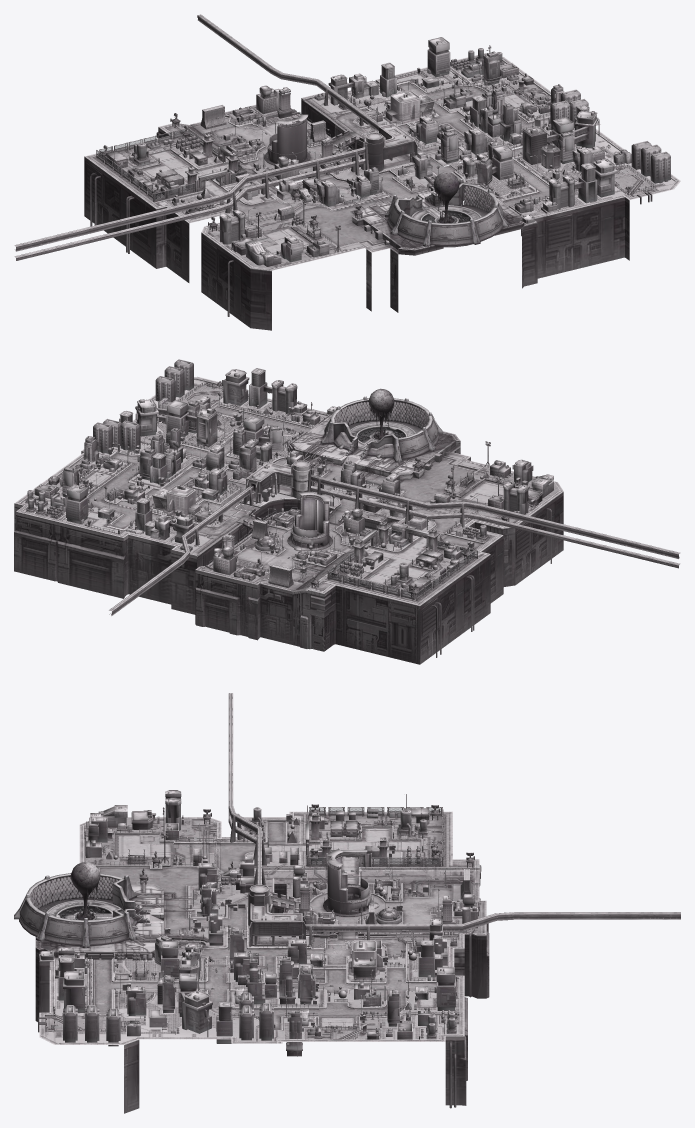
Rendered from fcbg_whitearkcity_002.glb.
The picture shows the model from 3 angles, top to bottom: view 1: azimuth 30°, elevation 25°; view 2: azimuth 150°, elevation 25°; view 3: azimuth 270°, elevation 25°; orthographic projection. The views are drawn at different scales.
Parts seen in each view (by area): view 1: fcbg_whitearkcity_002_bg_01, fcbg_whitearkcity_002_darkmatter_02, fcbg_whitearkcity_002_train_station_01, fcbg_whitearkcity_002_train_station_02, fcbg_whitearkcity_002_train_station_03, fcbg_whitearkcity_002_coinrush_01, fcbg_whitearkcity_002_policestation_01, fcbg_whitearkcity_002_building_01, fcbg_whitearkcity_building_17 (3), fcbg_whitearkcity_002_darkmatter_01, fcbg_whitearkcity_building_16, fcbg_whitearkcity_building_16 (2) (+15 smaller); view 2: fcbg_whitearkcity_002_bg_01, fcbg_whitearkcity_002_darkmatter_02, fcbg_whitearkcity_002_train_station_01, fcbg_whitearkcity_002_coinrush_01, fcbg_whitearkcity_002_train_station_02, fcbg_whitearkcity_002_train_station_03, fcbg_whitearkcity_002_policestation_01, fcbg_whitearkcity_002_darkmatter_01, fcbg_whitearkcity_building_14 (5), fcbg_whitearkcity_002_building_01, fcbg_whitearkcity_building_17 (3), fcbg_whitearkcity_building_16 (2) (+10 smaller); view 3: fcbg_whitearkcity_002_bg_01, fcbg_whitearkcity_002_darkmatter_02, fcbg_whitearkcity_002_train_station_03, fcbg_whitearkcity_002_train_station_02, fcbg_whitearkcity_002_coinrush_01, fcbg_whitearkcity_002_train_station_01, fcbg_whitearkcity_002_policestation_01, fcbg_whitearkcity_building_14 (1), fcbg_whitearkcity_002_darkmatter_01, fcbg_whitearkcity_building_17 (3), fcbg_whitearkcity_building_14 (5), fcbg_whitearkcity_building_02 (+2 smaller).
Boxes of the visible parts, x1,y1,x2,y2 form: fcbg_whitearkcity_002_bg_01: (84,53,680,330); fcbg_whitearkcity_002_darkmatter_02: (385,178,508,247); fcbg_whitearkcity_002_train_station_01: (14,142,369,260); fcbg_whitearkcity_002_train_station_02: (365,123,417,171); fcbg_whitearkcity_002_train_station_03: (197,14,382,131); fcbg_whitearkcity_002_coinrush_01: (264,114,310,165); fcbg_whitearkcity_002_policestation_01: (383,90,434,123); fcbg_whitearkcity_002_building_01: (520,118,546,164); fcbg_whitearkcity_building_17 (3): (427,37,450,77); fcbg_whitearkcity_002_darkmatter_01: (433,172,459,223); fcbg_whitearkcity_building_16: (549,175,574,209); fcbg_whitearkcity_building_16 (2): (219,210,245,244); fcbg_whitearkcity_002_bg_01: (14,376,563,664); fcbg_whitearkcity_002_darkmatter_02: (321,396,442,462); fcbg_whitearkcity_002_train_station_01: (307,469,680,568); fcbg_whitearkcity_002_coinrush_01: (287,491,332,551); fcbg_whitearkcity_002_train_station_02: (246,460,311,503); fcbg_whitearkcity_002_train_station_03: (109,485,253,615); fcbg_whitearkcity_002_policestation_01: (152,485,200,516); fcbg_whitearkcity_002_darkmatter_01: (369,388,394,439); fcbg_whitearkcity_building_14 (5): (223,369,249,405); fcbg_whitearkcity_002_building_01: (196,404,217,447); fcbg_whitearkcity_building_17 (3): (66,484,88,523); fcbg_whitearkcity_building_16 (2): (503,481,528,514); fcbg_whitearkcity_002_bg_01: (35,811,489,1113); fcbg_whitearkcity_002_darkmatter_02: (14,873,149,948); fcbg_whitearkcity_002_train_station_03: (305,912,680,946); fcbg_whitearkcity_002_train_station_02: (248,884,305,946); fcbg_whitearkcity_002_coinrush_01: (323,848,379,916); fcbg_whitearkcity_002_train_station_01: (228,693,266,885); fcbg_whitearkcity_002_policestation_01: (348,940,385,981); fcbg_whitearkcity_building_14 (1): (182,990,212,1033); fcbg_whitearkcity_002_darkmatter_01: (71,862,100,920); fcbg_whitearkcity_building_17 (3): (436,967,455,1010); fcbg_whitearkcity_building_14 (5): (63,970,84,1012); fcbg_whitearkcity_building_02: (279,956,295,1004).
Size of the model in its own units: 296 by 54.11 by 255.
Materials: 12 (11 with a texture image).
